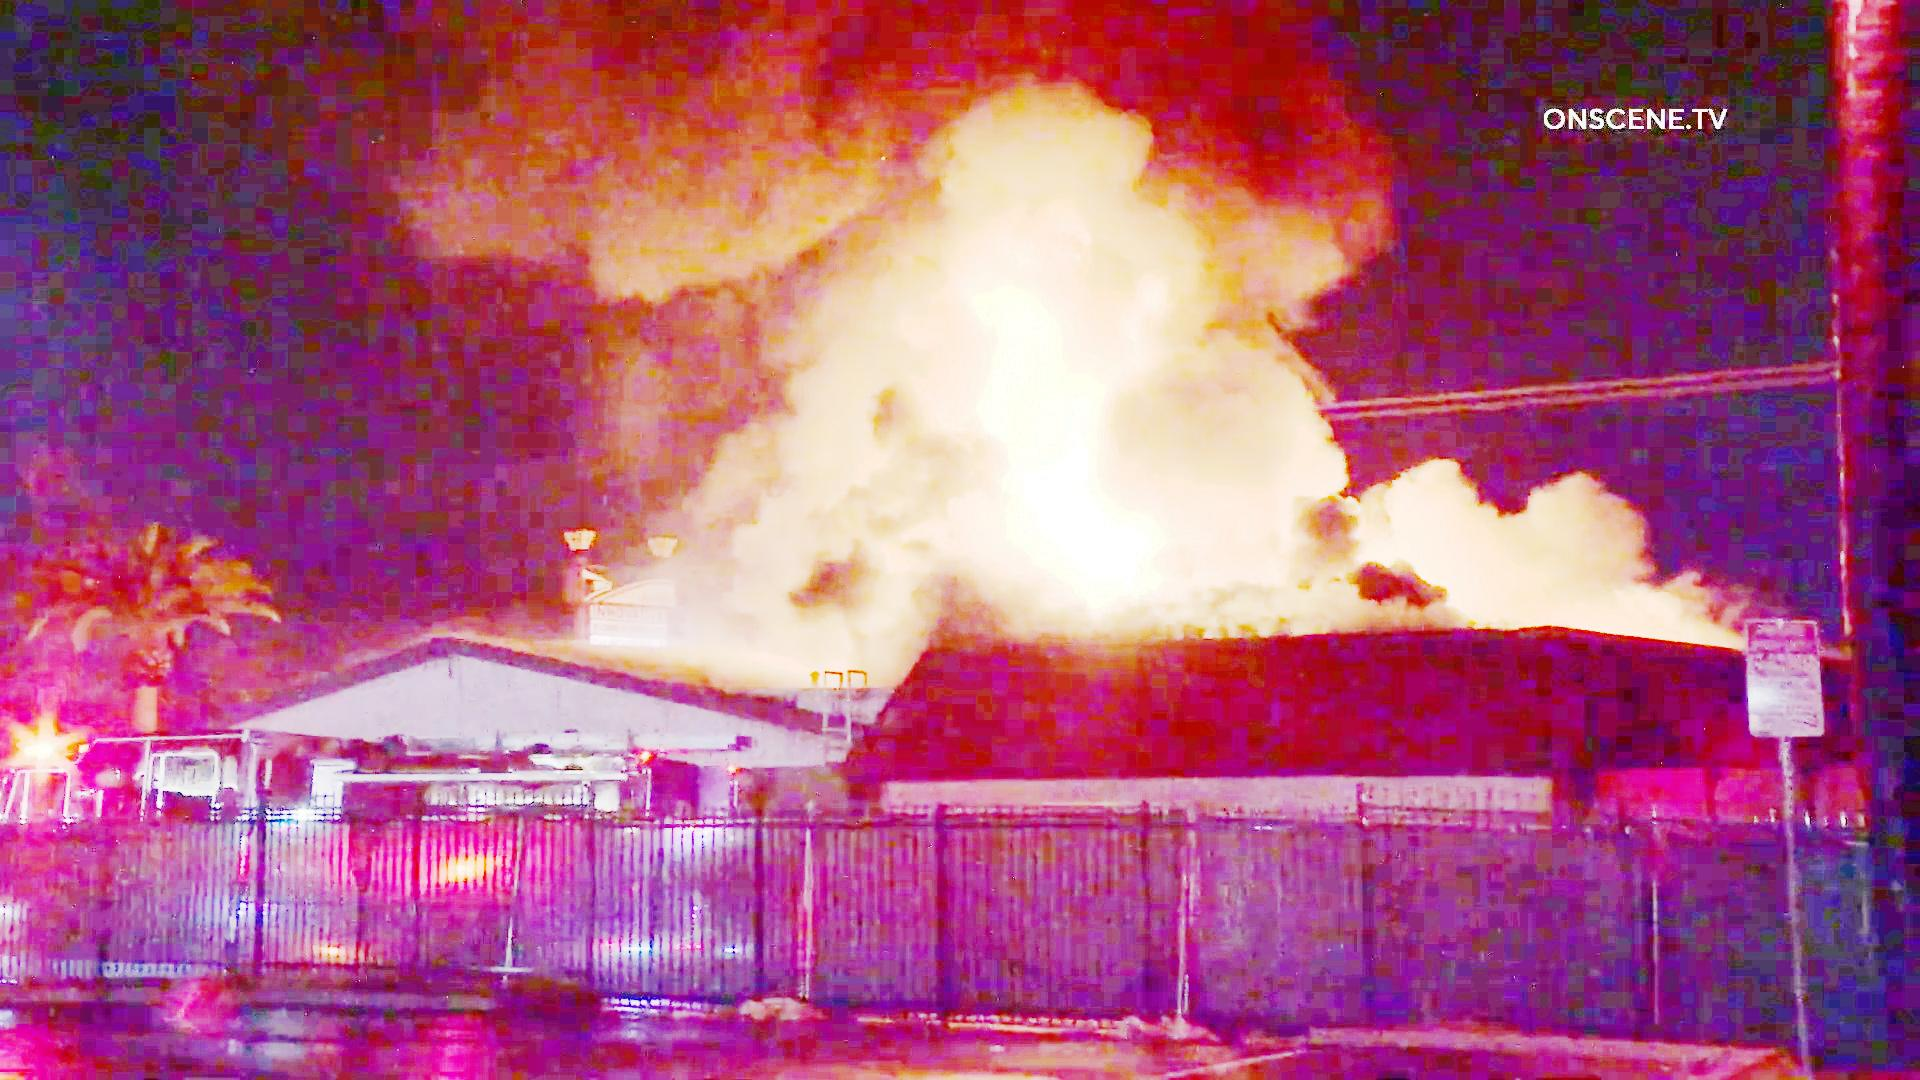fire: (978, 303, 1141, 591)
smoke: (538, 13, 1303, 249), (1196, 365, 1675, 621), (756, 36, 938, 646)
